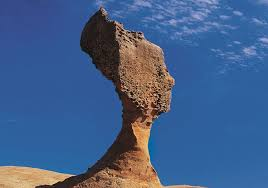yehliu: (66, 5, 191, 129)
